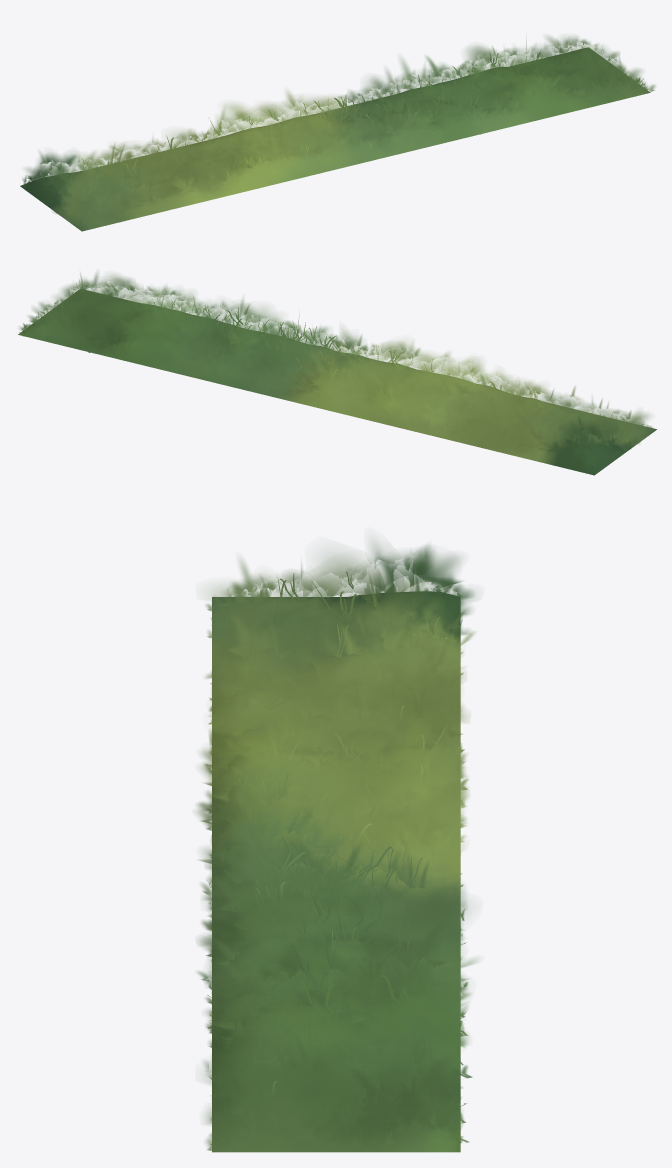
Rendered from lawn-3.7x0.7.glb.
The picture shows the model from 3 angles, top to bottom: view 1: azimuth 30°, elevation 25°; view 2: azimuth 150°, elevation 25°; view 3: azimuth 270°, elevation 25°; orthographic projection. The views are drawn at different scales.
Parts seen in each view (by area): view 1: Kowloon painted lawn; view 2: Kowloon painted lawn; view 3: Kowloon painted lawn.
Boxes of the visible parts, bbox=[...] form: Kowloon painted lawn: bbox=[20, 36, 655, 231]; Kowloon painted lawn: bbox=[18, 272, 656, 475]; Kowloon painted lawn: bbox=[196, 542, 477, 1152].
Size of the model in its own units: 3.84 by 0.3381 by 0.8767.
Materials: 3 (2 with a texture image).
